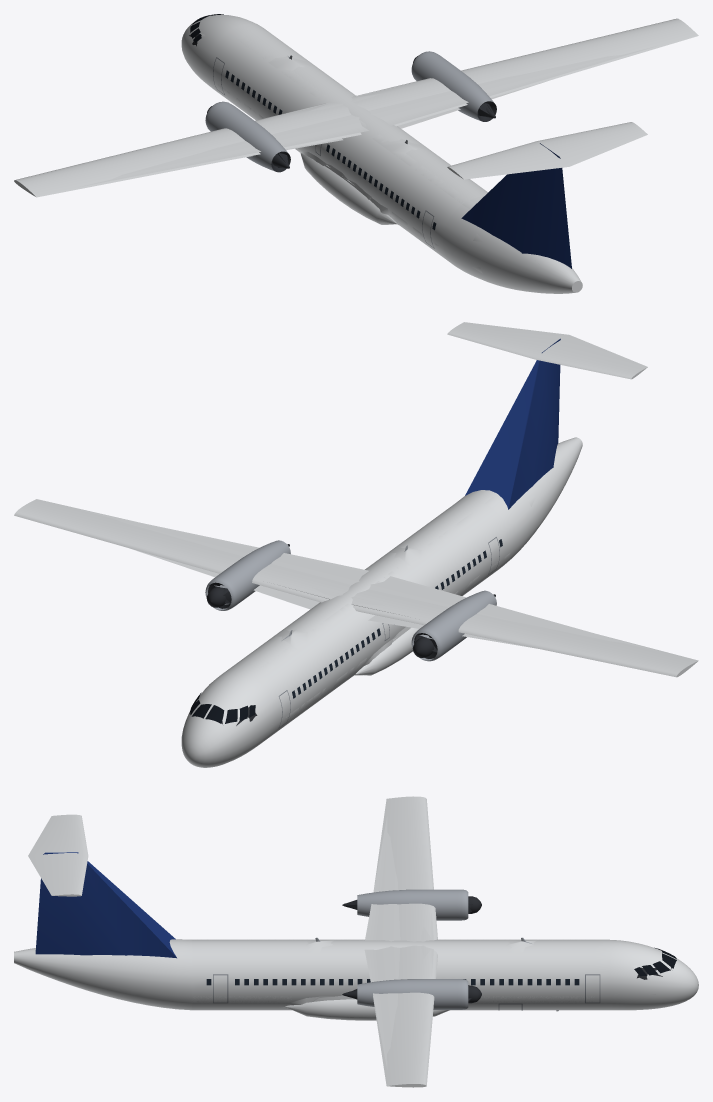
File: lat_turboprop.dae
3 views of the same model, one above another, from view 1: azimuth 30°, elevation 25°; view 2: azimuth 150°, elevation 25°; view 3: azimuth 270°, elevation 25° (orthographic). The views are drawn at different scales.
Visible parts, largest first — view 1: lat_turboprop150, lat_turboprop32, lat_turboprop1; view 2: lat_turboprop150, lat_turboprop32, lat_turboprop1; view 3: lat_turboprop150, lat_turboprop1, lat_turboprop32.
Boxes of the visible parts, left/top/right/bottom form: lat_turboprop150: left=14, top=14, right=698, bottom=293; lat_turboprop32: left=78, top=18, right=656, bottom=291; lat_turboprop1: left=242, top=81, right=571, bottom=268; lat_turboprop150: left=14, top=322, right=698, bottom=767; lat_turboprop32: left=77, top=496, right=657, bottom=726; lat_turboprop1: left=132, top=338, right=560, bottom=648; lat_turboprop150: left=14, top=796, right=698, bottom=1087; lat_turboprop1: left=35, top=852, right=176, bottom=958; lat_turboprop32: left=58, top=816, right=671, bottom=1069.
Size of the model in its own units: 27 by 27.2 by 6.94.
